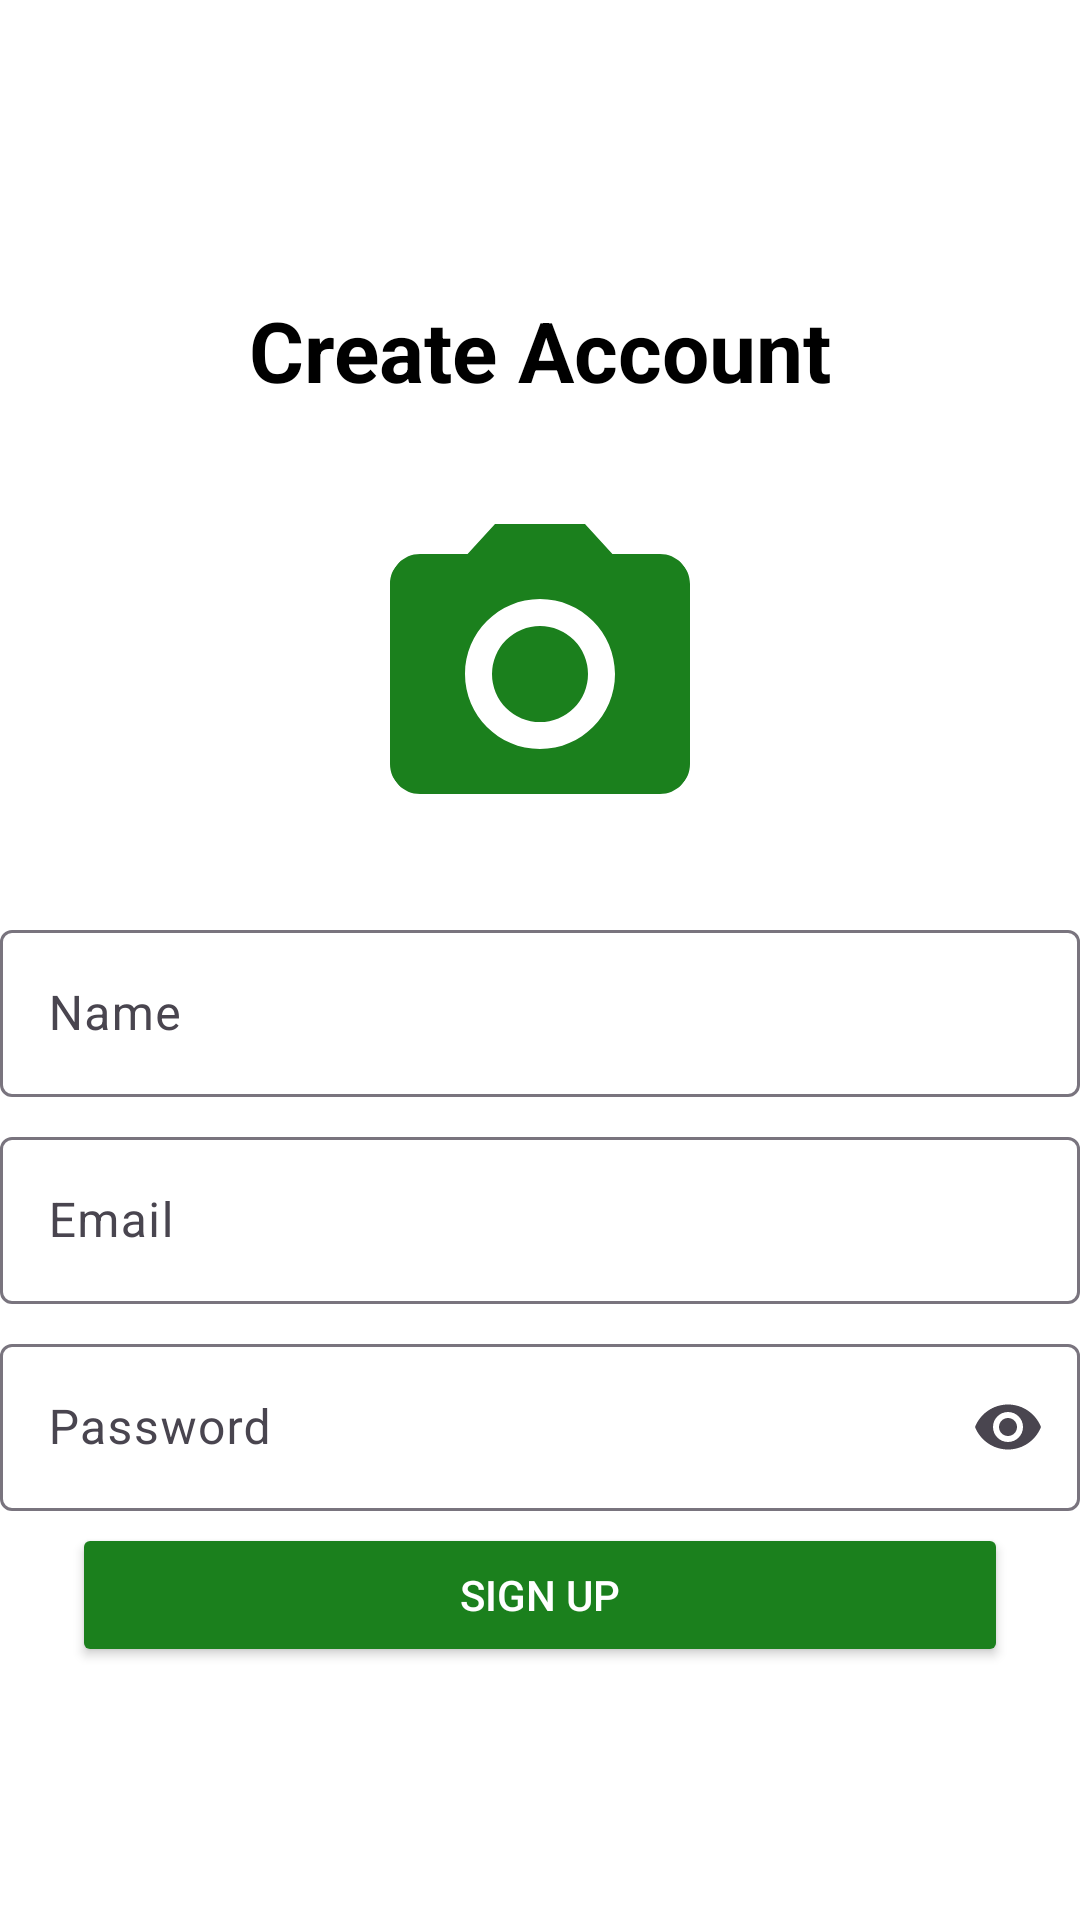

Screen size 1080w x 1920h. Icon name, then its box in pixels as [x1,y1,x2,y2]:
Select profile picture: [390,524,690,794]
